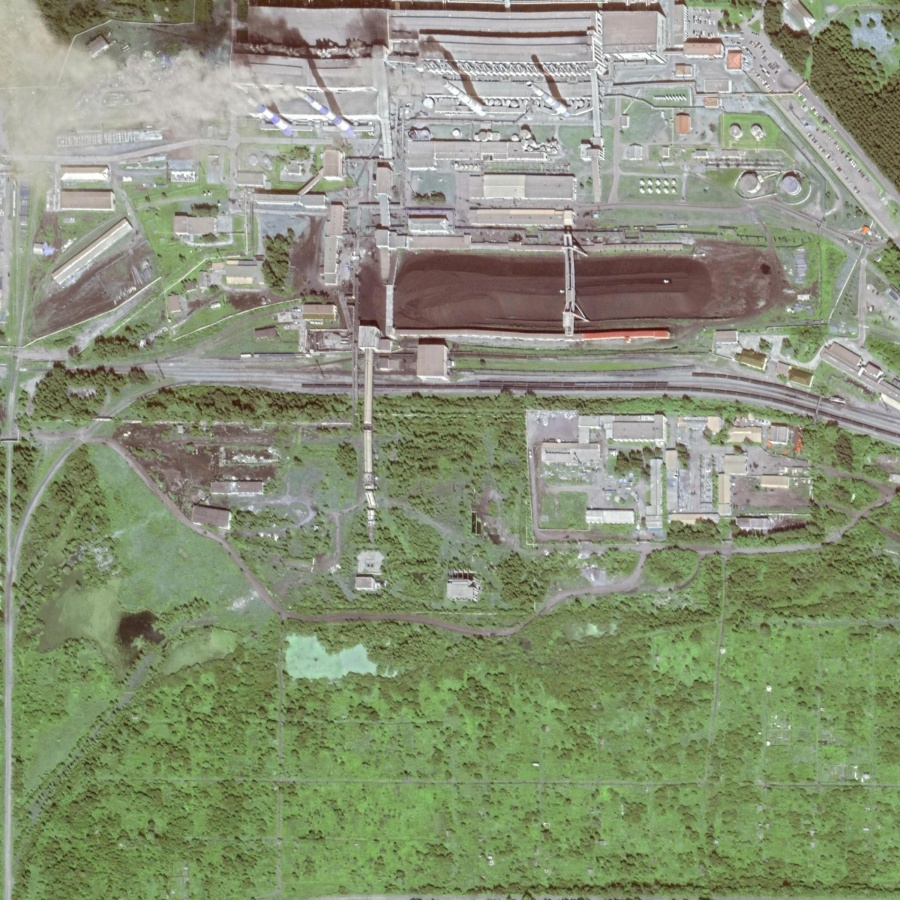PowerPlant: (206, 3, 806, 345)
